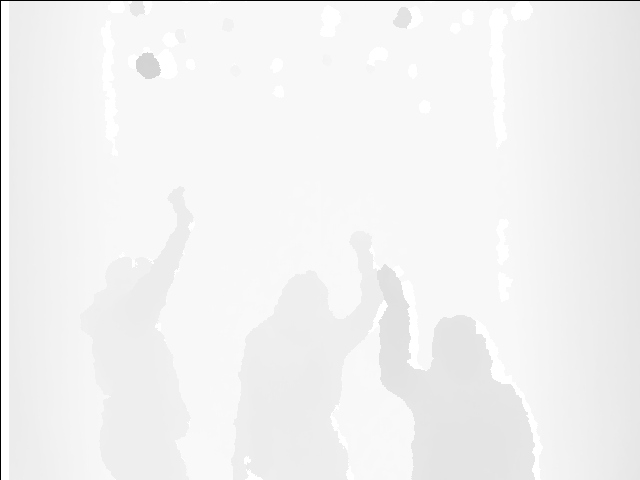hand: (372, 261, 408, 303), (348, 228, 378, 268), (168, 184, 192, 222)
